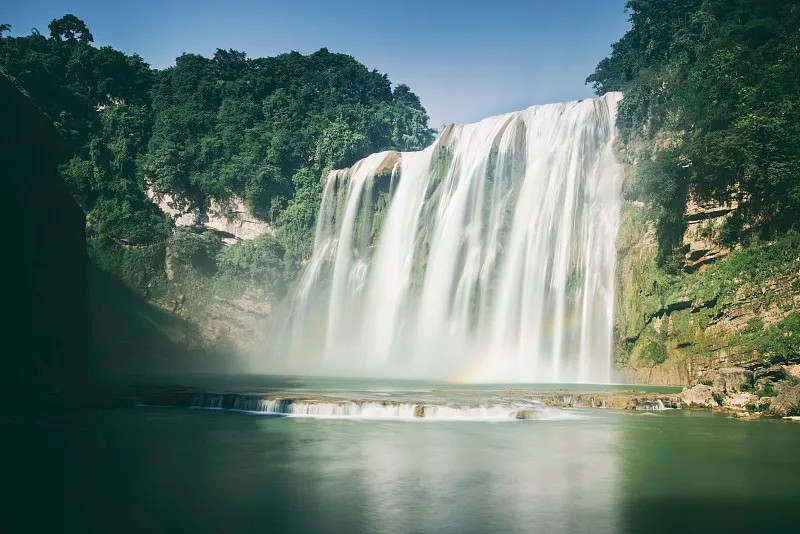Huangguoshu: (280, 90, 618, 385)
